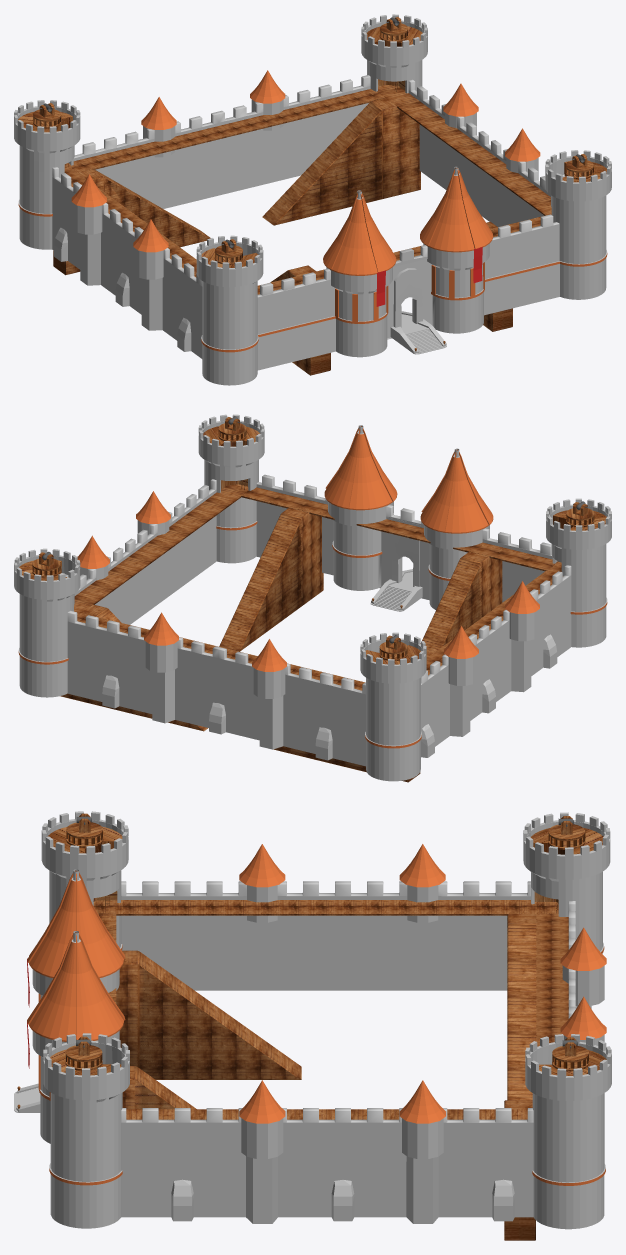
Rendered from castel6.fbx.
3 renders of one model, top to bottom at view 1: azimuth 30°, elevation 25°; view 2: azimuth 150°, elevation 25°; view 3: azimuth 270°, elevation 25°, orthographic. The views are drawn at different scales.
Visible parts, largest first — view 1: Castle_Catle.006, Cube_Cube.002, Castle.003_Catle.009, Cylinder.004; view 2: Castle_Catle.006, Cube_Cube.002, Castle.003_Catle.009, Cylinder.001; view 3: Castle_Catle.006, Cube_Cube.002, Cylinder.002, Cylinder.003, Castle.003_Catle.009, Cylinder.007, Cylinder.016, Cylinder, Cylinder.012.
Boxes of the visible parts, left/top/right/bottom form: Castle_Catle.006: left=14, top=14, right=611, bottom=385; Cube_Cube.002: left=53, top=85, right=551, bottom=375; Castle.003_Catle.009: left=390, top=268, right=446, bottom=354; Cylinder.004: left=366, top=26, right=422, bottom=90; Castle_Catle.006: left=14, top=414, right=611, bottom=781; Cube_Cube.002: left=60, top=484, right=561, bottom=782; Castle.003_Catle.009: left=370, top=534, right=422, bottom=611; Cylinder.001: left=203, top=426, right=259, bottom=489; Castle_Catle.006: left=27, top=811, right=611, bottom=1229; Cube_Cube.002: left=93, top=900, right=568, bottom=1240; Cylinder.002: left=47, top=826, right=122, bottom=901; Cylinder.003: left=530, top=828, right=603, bottom=902; Castle.003_Catle.009: left=14, top=1083, right=40, bottom=1112; Cylinder.007: left=548, top=824, right=585, bottom=847; Cylinder.016: left=65, top=1045, right=102, bottom=1068; Cylinder: left=66, top=822, right=102, bottom=845; Cylinder.012: left=552, top=1045, right=588, bottom=1068.
Bounding box in the file's own units: 23090 × 9417 × 22496.
